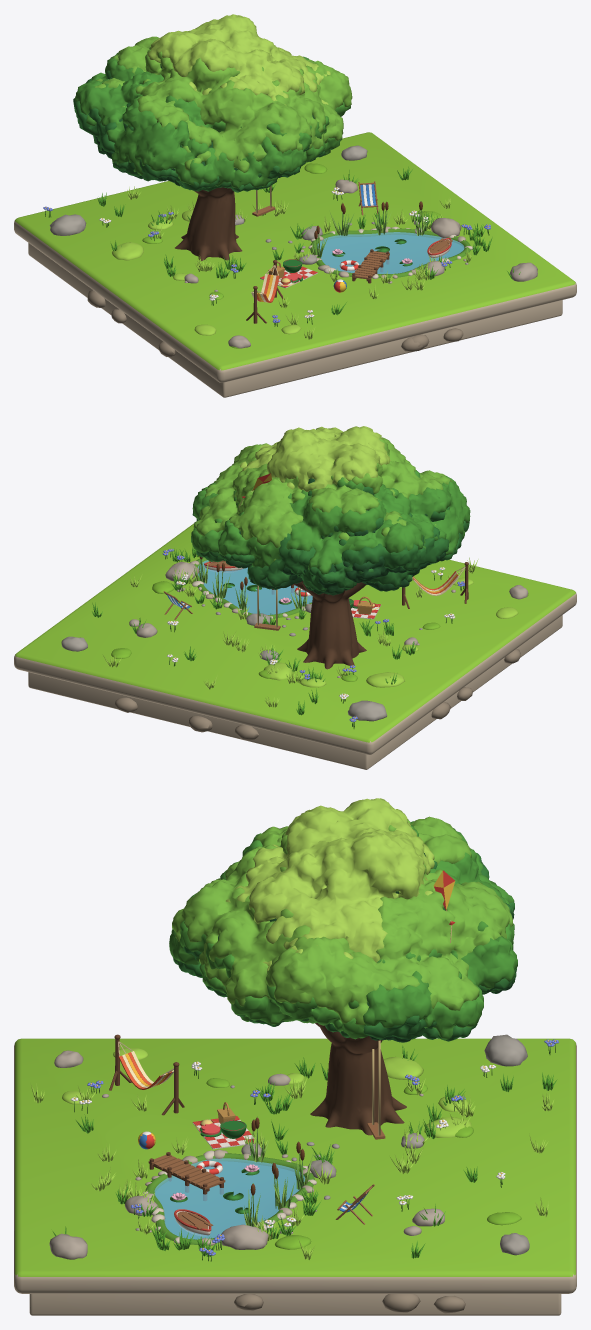
The model's file is summer.glb.
The picture shows the model from 3 angles, top to bottom: view 1: azimuth 30°, elevation 25°; view 2: azimuth 150°, elevation 25°; view 3: azimuth 270°, elevation 25°; orthographic projection. The views are drawn at different scales.
Parts seen in each view (by area): view 1: Base, Blossoms, Grass, Water, Rocks, Trunk, Pond, Reeds, Flowers, Hammock, Picnic, Jetty; view 2: Base, Blossoms, Grass, Trunk, Rocks, Water, Reeds, Flowers, Pond, Hammock, Picnic; view 3: Base, Blossoms, Grass, Trunk, Rocks, Water, Pond, Flowers, Hammock, Reeds, Picnic, Jetty (+1 smaller).
Part boxes in pixels (x1,y1,x2,y2): Base: (14,132,576,397); Blossoms: (73,14,352,192); Grass: (97,163,520,348); Water: (317,232,464,273); Rocks: (49,145,537,348); Trunk: (175,185,271,260); Pond: (308,226,473,278); Reeds: (311,201,428,257); Flowers: (43,187,490,326); Hammock: (246,260,284,323); Picnic: (260,259,317,288); Jetty: (352,249,389,283); Base: (14,523,576,769); Blossoms: (191,426,470,595); Grass: (92,546,528,715); Trunk: (239,473,366,669); Rocks: (61,562,528,721); Water: (198,560,312,614); Reeds: (194,556,307,611); Flowers: (162,548,464,728); Pond: (190,557,311,618); Hammock: (402,562,468,608); Picnic: (348,596,381,619); Base: (14,1038,576,1315); Blossoms: (169,798,517,1042); Grass: (30,1045,557,1259); Trunk: (310,870,455,1135); Rocks: (49,1034,529,1259); Water: (154,1158,305,1239); Pond: (143,1149,316,1245); Flowers: (70,1039,558,1261); Hammock: (109,1034,184,1115); Reeds: (243,1116,313,1226); Picnic: (192,1102,254,1149); Jetty: (148,1152,225,1200).
Size of the model in its own units: 72 by 49.18 by 72.
